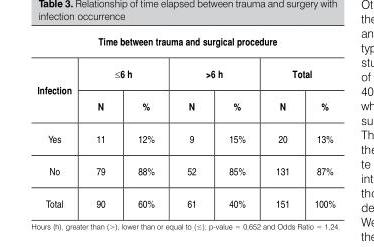table: (36, 36, 334, 208)
table column: (120, 36, 170, 208), (211, 36, 259, 208), (36, 36, 83, 208), (259, 36, 301, 208), (170, 36, 211, 208), (83, 36, 120, 208), (301, 36, 334, 208)
table column header: (36, 36, 334, 122)
table row: (36, 56, 334, 90), (36, 122, 334, 155), (36, 90, 334, 122), (36, 155, 334, 187), (36, 187, 334, 208), (36, 36, 334, 56)
table spanning cell: (36, 36, 334, 56), (36, 56, 83, 122), (170, 56, 259, 90), (83, 56, 170, 90), (259, 56, 334, 90)
